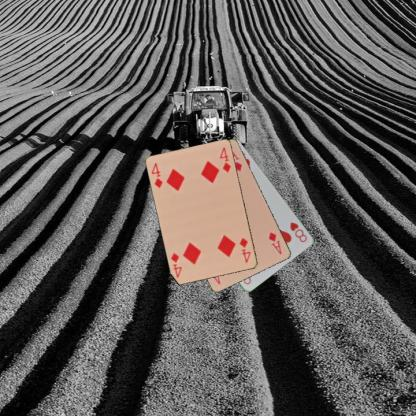4d: (149, 160, 164, 190), (237, 235, 252, 264)
8h: (288, 220, 308, 243)
Ad: (266, 229, 283, 256)
